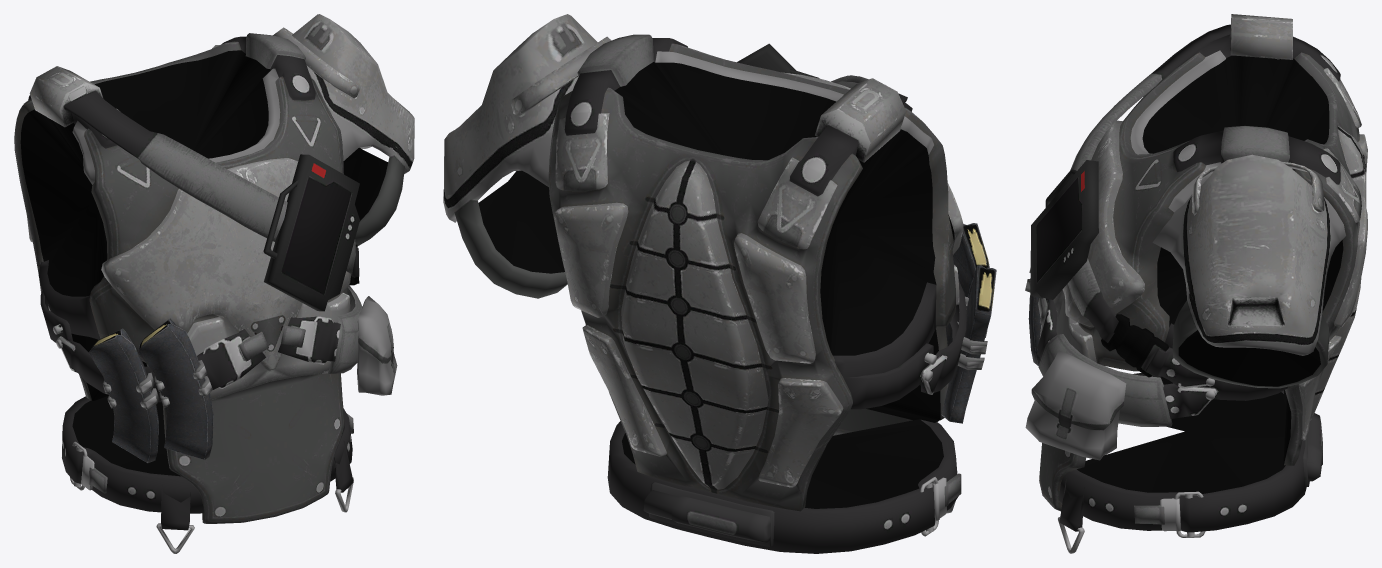
Rendered from SurvivorMale_Armor_NearFutureVest_LOD0.glb.
3 views of the same model, side by side, from view 1: azimuth 30°, elevation 25°; view 2: azimuth 150°, elevation 25°; view 3: azimuth 270°, elevation 25° (orthographic). The views are drawn at different scales.
Visible parts, largest first — view 1: Hoodie; view 2: Hoodie; view 3: Hoodie.
Part boxes in pixels (x1,y1,x2,y2): Hoodie: [14, 14, 414, 553]; Hoodie: [443, 14, 996, 553]; Hoodie: [1025, 14, 1367, 553].
Size of the model in its own units: 0.5704 by 0.6006 by 0.4233.
Materials: 1 (1 with a texture image).
